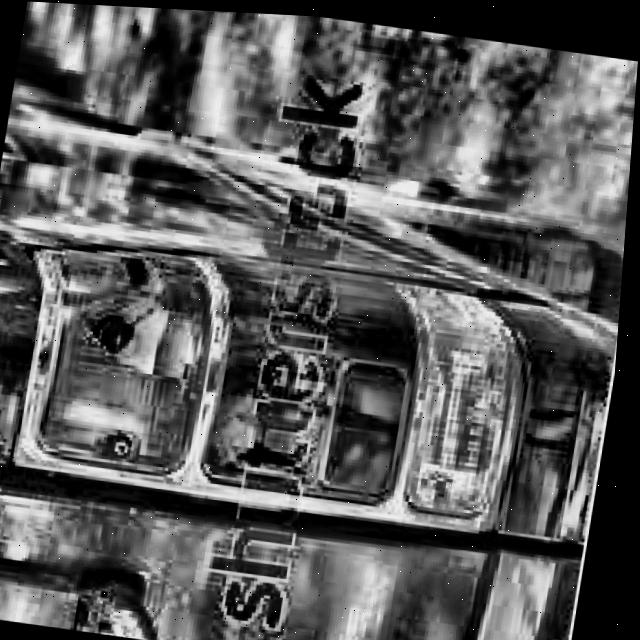tail_lamp: (32, 248, 428, 509)
